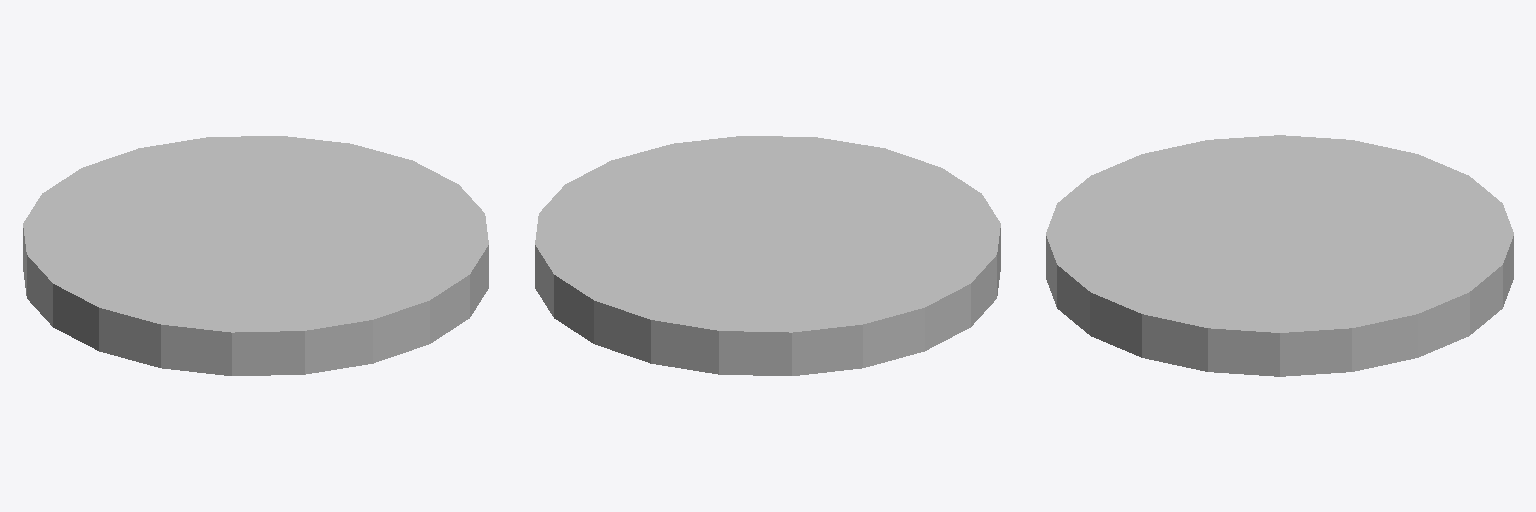
The model's file is BunMd.obj.
3 renders of one model, left to right at view 1: azimuth 30°, elevation 25°; view 2: azimuth 150°, elevation 25°; view 3: azimuth 270°, elevation 25°, orthographic.
Parts seen in each view (by area): view 1: MiddleBun_Cylinder.003; view 2: MiddleBun_Cylinder.003; view 3: MiddleBun_Cylinder.003.
Part boxes in pixels (bbox=[...]): MiddleBun_Cylinder.003: bbox=[23, 136, 488, 375]; MiddleBun_Cylinder.003: bbox=[535, 136, 1000, 375]; MiddleBun_Cylinder.003: bbox=[1046, 135, 1513, 376].
Size of the model in its own units: 2 by 0.2063 by 2.